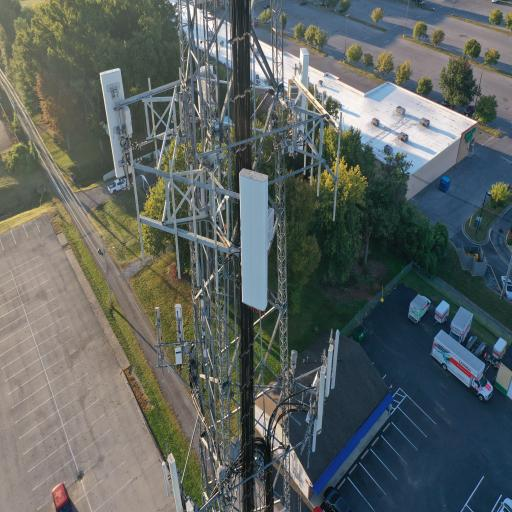supporting_tower: (92, 1, 362, 512)
